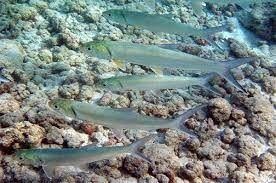Tenpounder: (78, 32, 255, 90), (51, 88, 209, 137), (14, 131, 158, 170), (100, 7, 230, 49), (102, 66, 220, 98)
